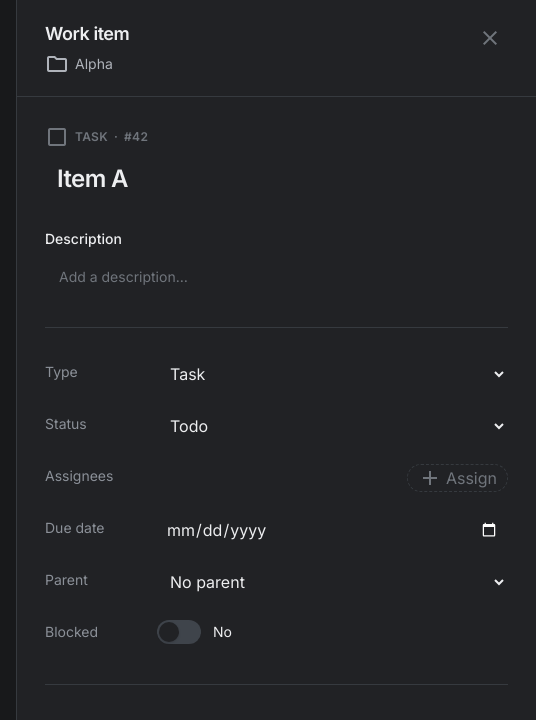
Scenario: Work Item inspector — save feedback identity across in-place item switches › a successful PATCH for A never displays "Saved" on B after switching
Select "In Progress" in the dropdown named "Status" at (332, 426), box x1=157 y1=408 x2=508 y2=444
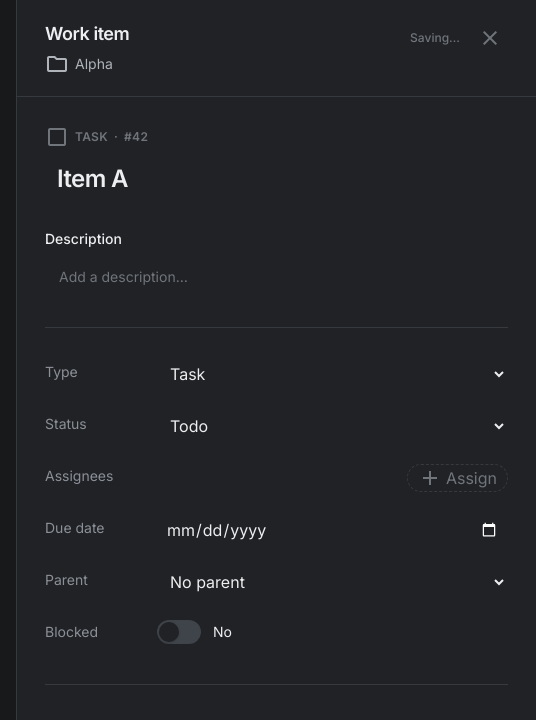
Now the text "Saving…" is shown, box x1=410 y1=30 x2=460 y2=46
